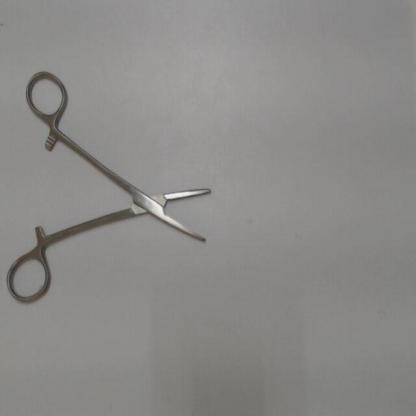Mayo Needle Holder: (2, 64, 226, 312)
